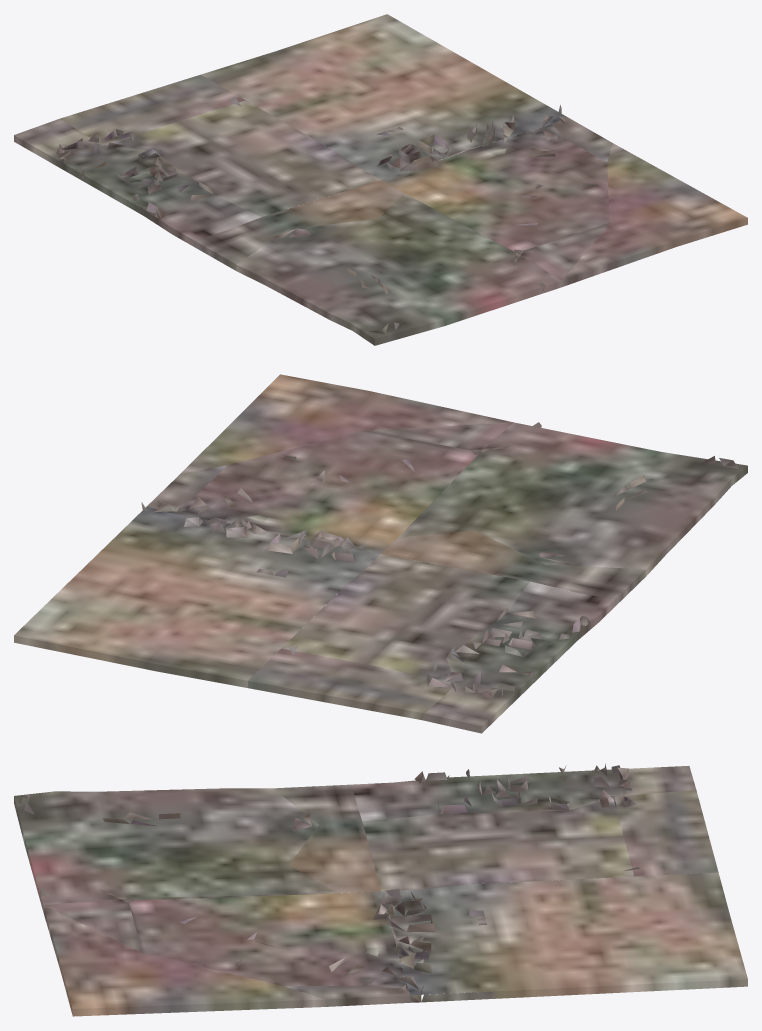
The picture shows the model from 3 angles, top to bottom: view 1: azimuth 30°, elevation 25°; view 2: azimuth 150°, elevation 25°; view 3: azimuth 270°, elevation 25°; orthographic projection. The views are drawn at different scales.
Visible parts, largest first — view 1: Mesh_0; view 2: Mesh_0; view 3: Mesh_0.
Boxes of the visible parts, x1,y1,x2,y2 form: Mesh_0: (14,14,747,345); Mesh_0: (14,374,747,733); Mesh_0: (14,763,747,1016).
Bounding box in the file's own units: 2131 × 98.79 × 2636.
Materials: 1 (1 with a texture image).
